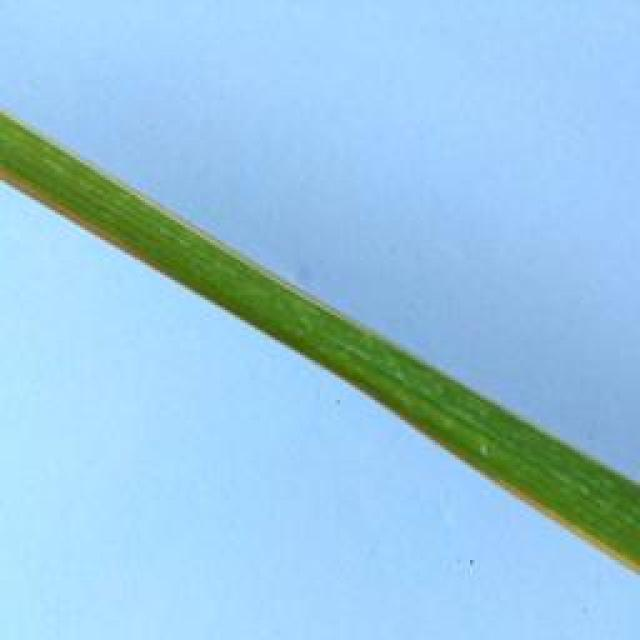Bacterial_Blight: (0, 106, 361, 334), (0, 168, 168, 270)
